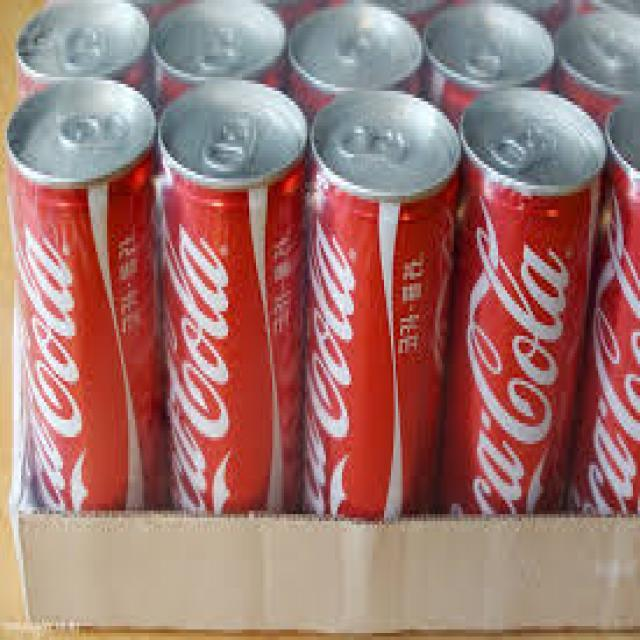coca-cola: (7, 95, 170, 513), (442, 106, 606, 516), (156, 84, 308, 516), (307, 98, 461, 518)
